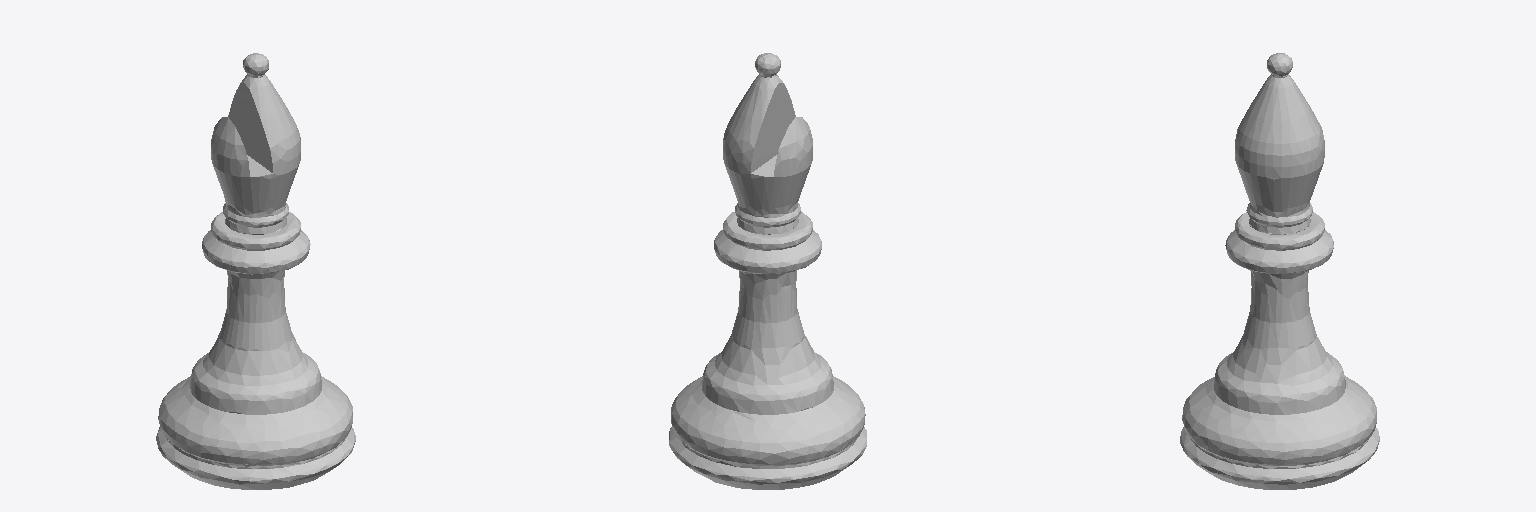
The model's file is bishop.obj.
3 renders of one model, left to right at view 1: azimuth 30°, elevation 25°; view 2: azimuth 150°, elevation 25°; view 3: azimuth 270°, elevation 25°, orthographic.
Parts seen in each view (by area): view 1: Vert; view 2: Vert; view 3: Vert.
Boxes of the visible parts, <box> form: Vert: <box>156,53,355,489</box>; Vert: <box>669,53,866,489</box>; Vert: <box>1180,53,1379,489</box>.
Size of the model in its own units: 0.9662 by 2.15 by 0.9656.